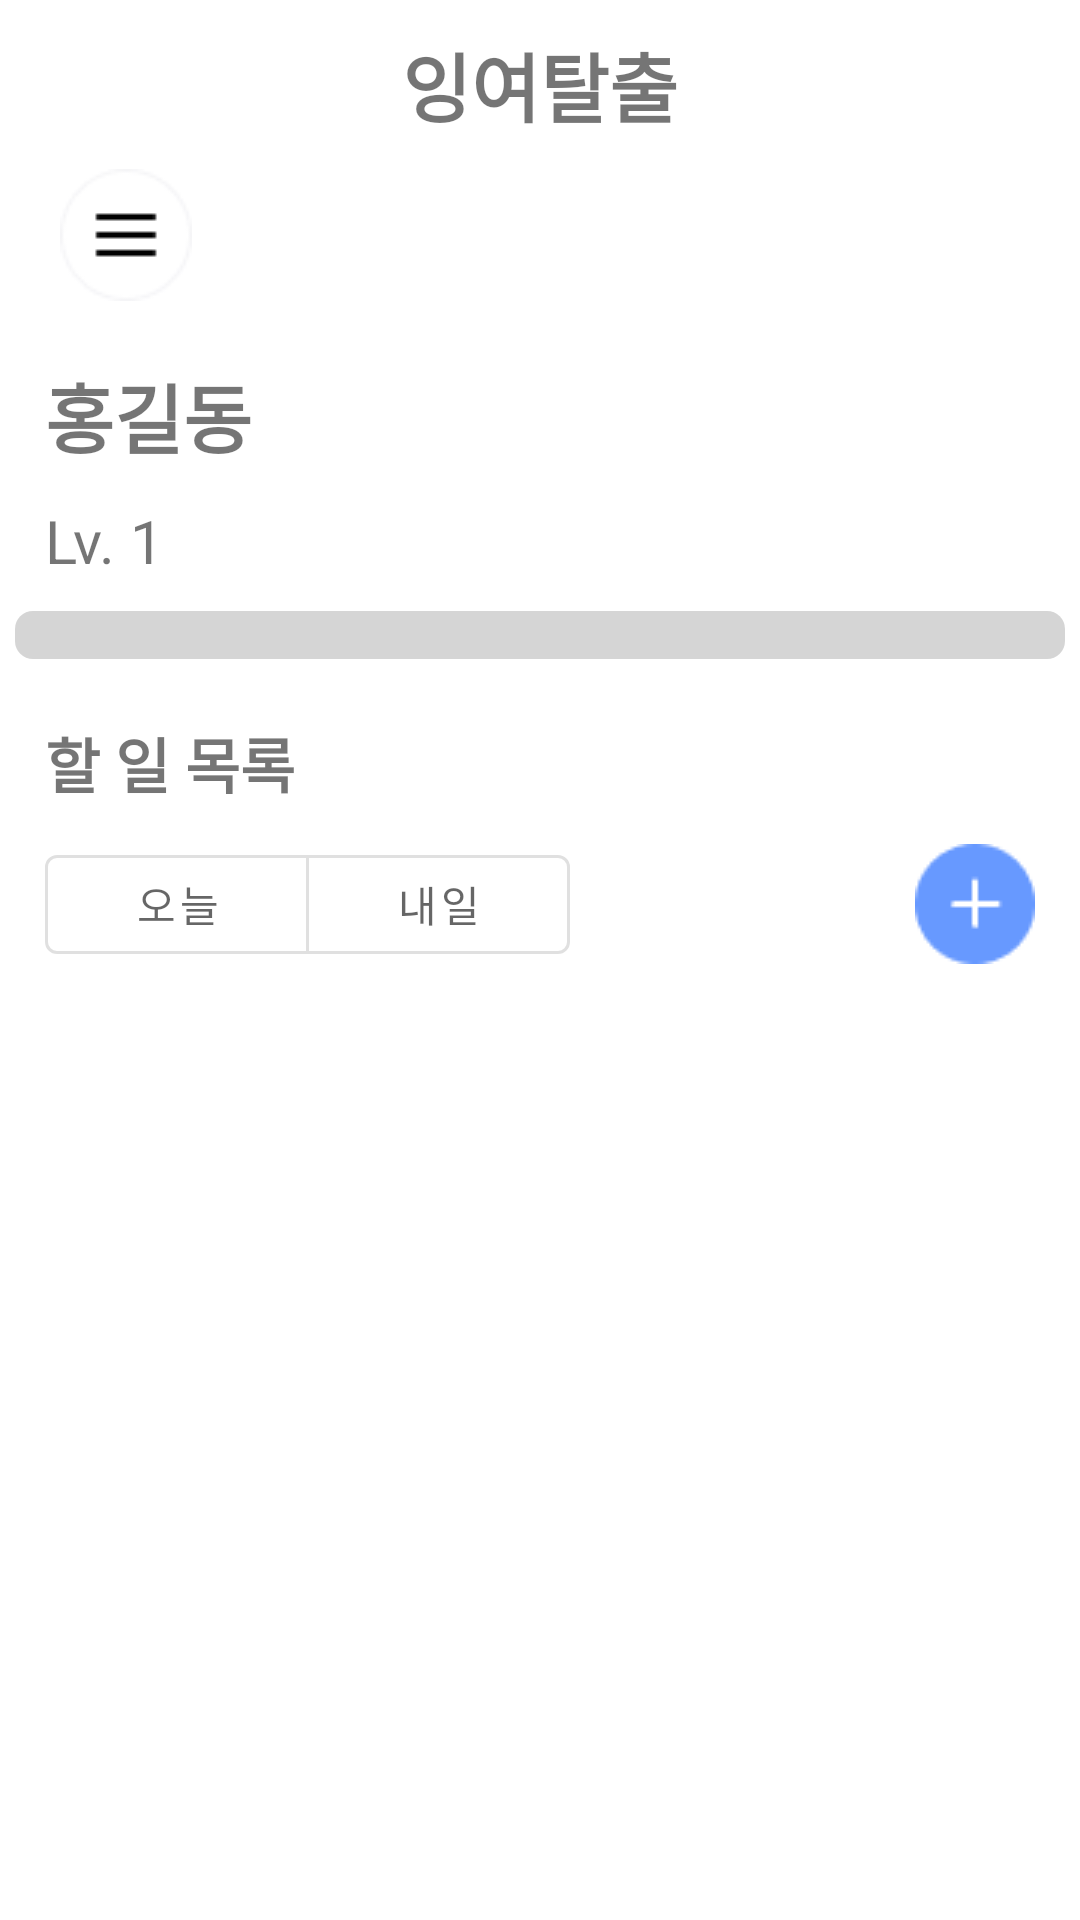

Icon click points for this 1080*1920 phone screenshot, format [x,y]:
add: [975,904]
menu: [126,235]
